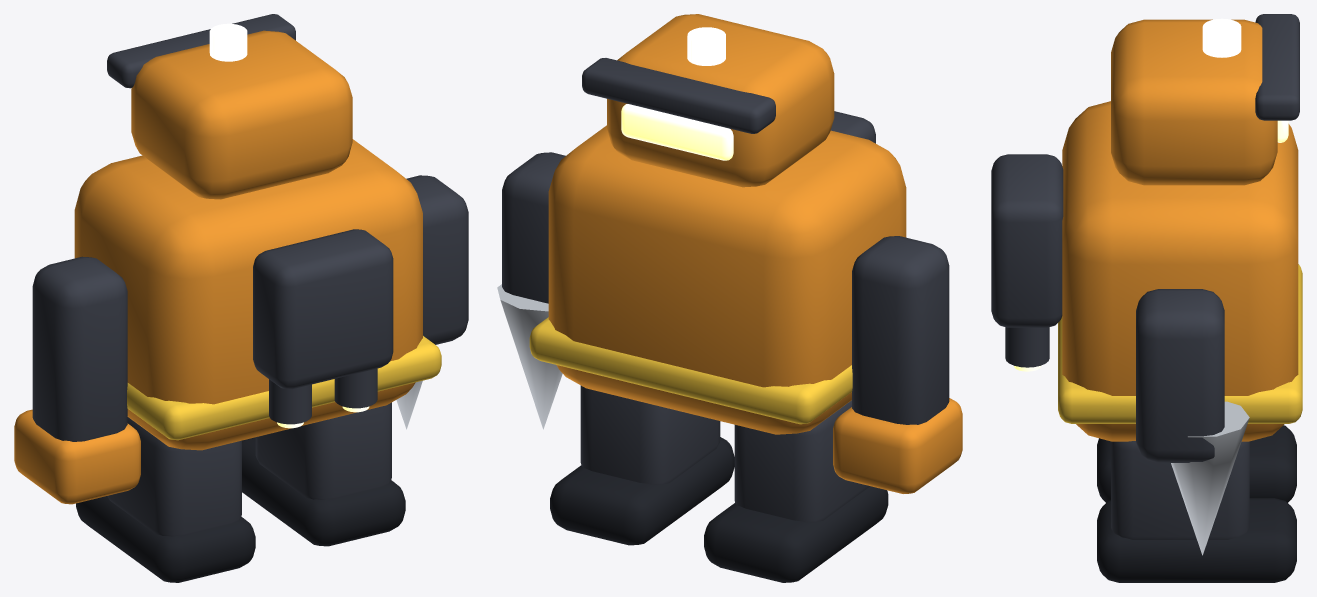
Rendered from robot_miner.glb.
The picture shows the model from 3 angles, left to right: view 1: azimuth 30°, elevation 25°; view 2: azimuth 150°, elevation 25°; view 3: azimuth 270°, elevation 25°; orthographic projection. The views are drawn at different scales.
Parts seen in each view (by area): view 1: Torso, Head, Thruster, ArmL, LegL, LegR, ClawL, TreadL, TreadR, ArmR, Stripe, Brow (+3 smaller); view 2: Torso, Head, ArmL, Stripe, LegR, TreadR, TreadL, LegL, ClawL, Brow, ArmR, Eye (+3 smaller); view 3: Torso, Head, ArmR, Thruster, TreadR, LegR, Stripe, Drill, Brow, TreadL, Nozzle1, Lamp.
Part boxes in pixels (x1,y1,x2,y2): Torso: [74, 139, 422, 450]; Head: [131, 30, 352, 199]; Thruster: [253, 229, 393, 389]; ArmL: [32, 256, 127, 441]; LegL: [107, 417, 241, 536]; LegR: [255, 402, 391, 499]; ClawL: [14, 409, 140, 504]; TreadL: [76, 496, 255, 582]; TreadR: [242, 437, 405, 546]; ArmR: [406, 175, 468, 344]; Stripe: [127, 336, 441, 440]; Brow: [107, 14, 295, 88]; Torso: [548, 125, 906, 434]; Head: [607, 14, 834, 187]; ArmL: [852, 236, 949, 424]; Stripe: [529, 317, 852, 424]; LegR: [580, 385, 720, 484]; TreadR: [550, 437, 734, 545]; TreadL: [704, 486, 888, 582]; LegL: [734, 400, 869, 522]; ClawL: [833, 398, 962, 493]; Brow: [582, 58, 775, 133]; ArmR: [502, 152, 565, 303]; Eye: [621, 104, 733, 160]; Torso: [1062, 101, 1298, 441]; Head: [1111, 19, 1277, 185]; ArmR: [1136, 289, 1224, 462]; Thruster: [991, 154, 1063, 327]; TreadR: [1097, 498, 1296, 582]; LegR: [1111, 441, 1249, 539]; Stripe: [1058, 264, 1302, 423]; Drill: [1171, 401, 1249, 555]; Brow: [1255, 14, 1299, 120]; TreadL: [1097, 425, 1296, 502]; Nozzle1: [1005, 327, 1049, 367]; Lamp: [1202, 18, 1241, 57].
Size of the model in its own units: 1.78 by 1.99 by 1.12.
